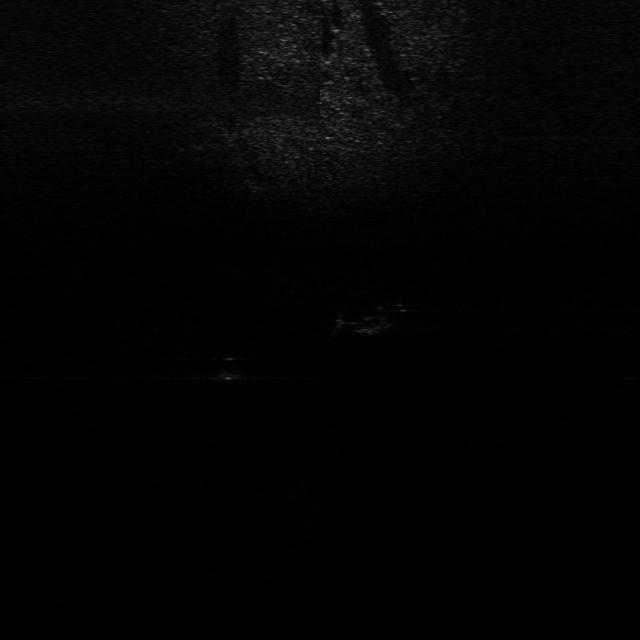ball: (206, 354, 247, 384)
human body: (326, 298, 413, 343)
